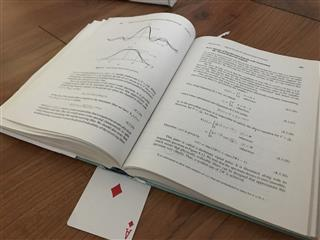AceOfDiamonds: (66, 166, 151, 240)
